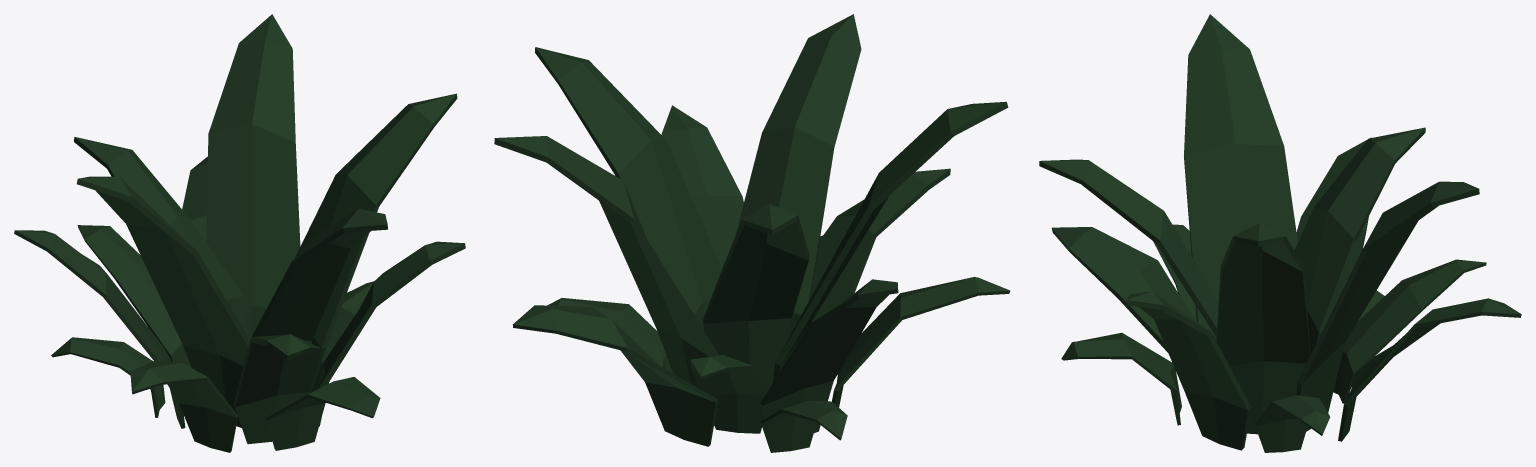
The model's file is Muda_de_Berry_FASE2.glb.
3 views of the same model, side by side, from view 1: azimuth 30°, elevation 25°; view 2: azimuth 150°, elevation 25°; view 3: azimuth 270°, elevation 25° (orthographic). The views are drawn at different scales.
Visible parts, largest first — view 1: Fern; view 2: Fern; view 3: Fern.
Part boxes in pixels (x1,y1,x2,y2): Fern: [14, 14, 465, 452]; Fern: [494, 14, 1010, 452]; Fern: [1039, 14, 1521, 452].
Bounding box in the file's own units: 110 × 81.16 × 114.
